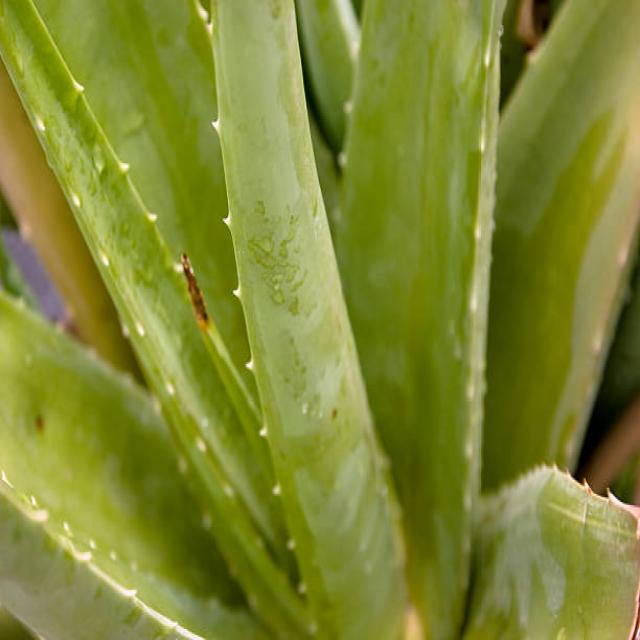AloeVera: (0, 17, 626, 606)
